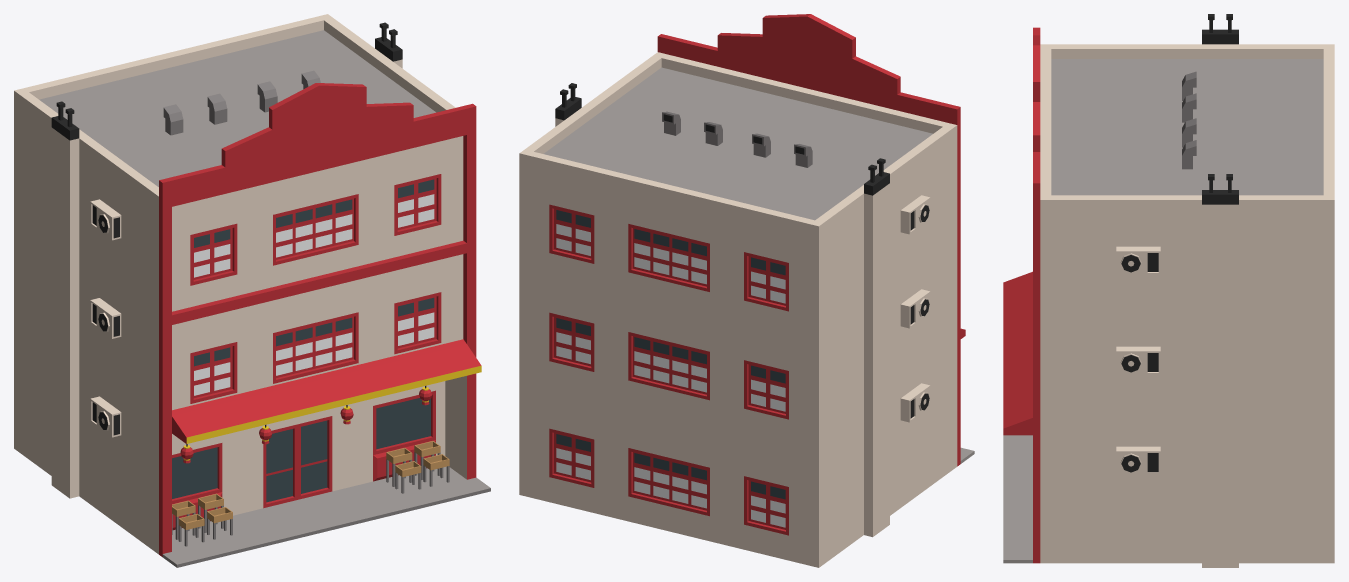
Rendered from buildings_building-market-china.fbx.
3 views of the same model, side by side, from view 1: azimuth 30°, elevation 25°; view 2: azimuth 150°, elevation 25°; view 3: azimuth 270°, elevation 25° (orthographic). The views are drawn at different scales.
Visible parts, largest first — view 1: buildings_building_market_china; view 2: buildings_building_market_china; view 3: buildings_building_market_china.
Part boxes in pixels (box(x1,y1,x2,y2)): buildings_building_market_china: box(14, 14, 490, 567); buildings_building_market_china: box(519, 14, 974, 567); buildings_building_market_china: box(1003, 14, 1334, 567).
Size of the model in its own units: 162 by 200 by 136.
